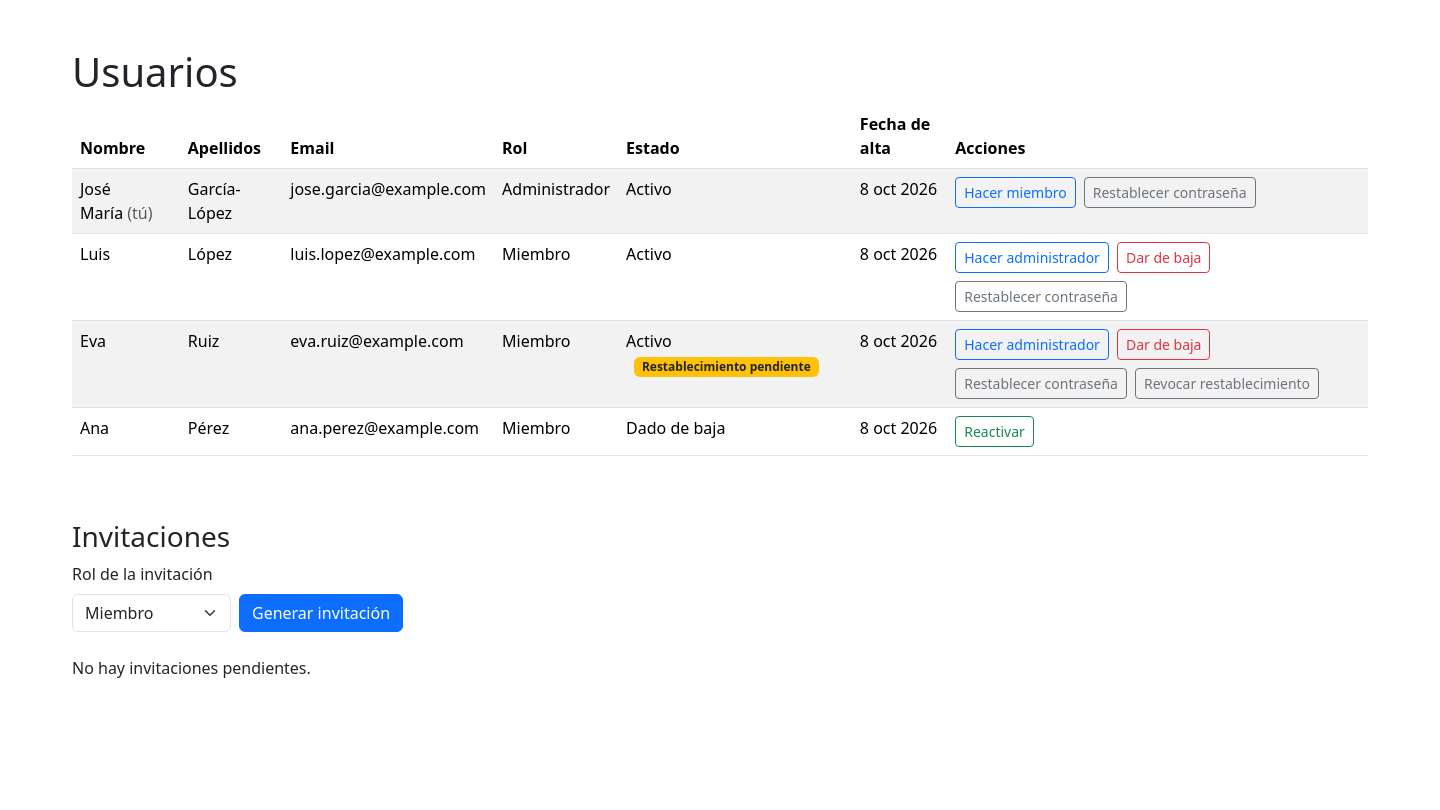
Test case: UsersPage password reset › generating the link › shows the not active notice for a 409
Click the 2nd button "Restablecer contraseña" at (1041, 296), box [955,281,1127,312]
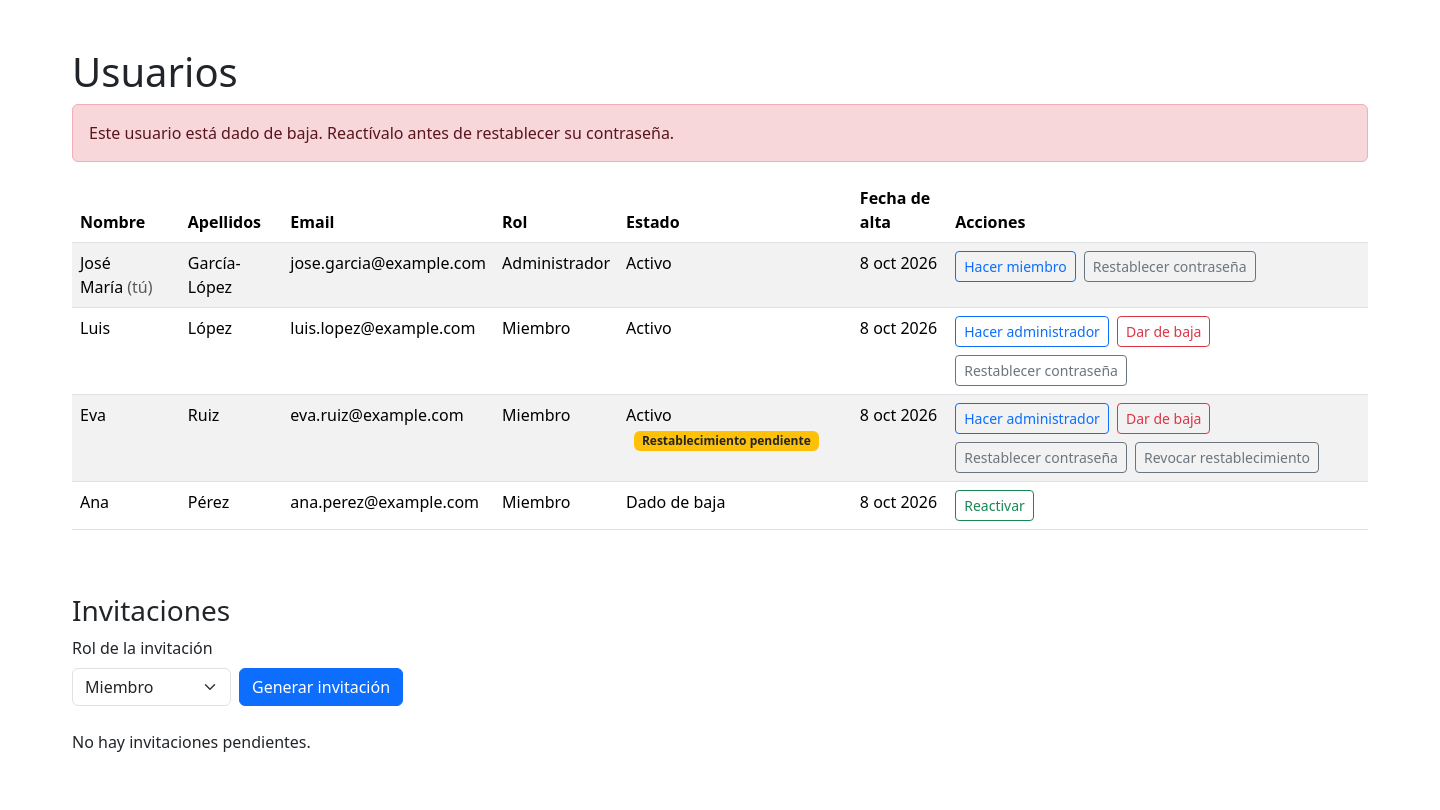
Now the message reads "Este usuario está dado de baja. Reactívalo antes de restablecer su contraseña.", box [89,122,674,144]
